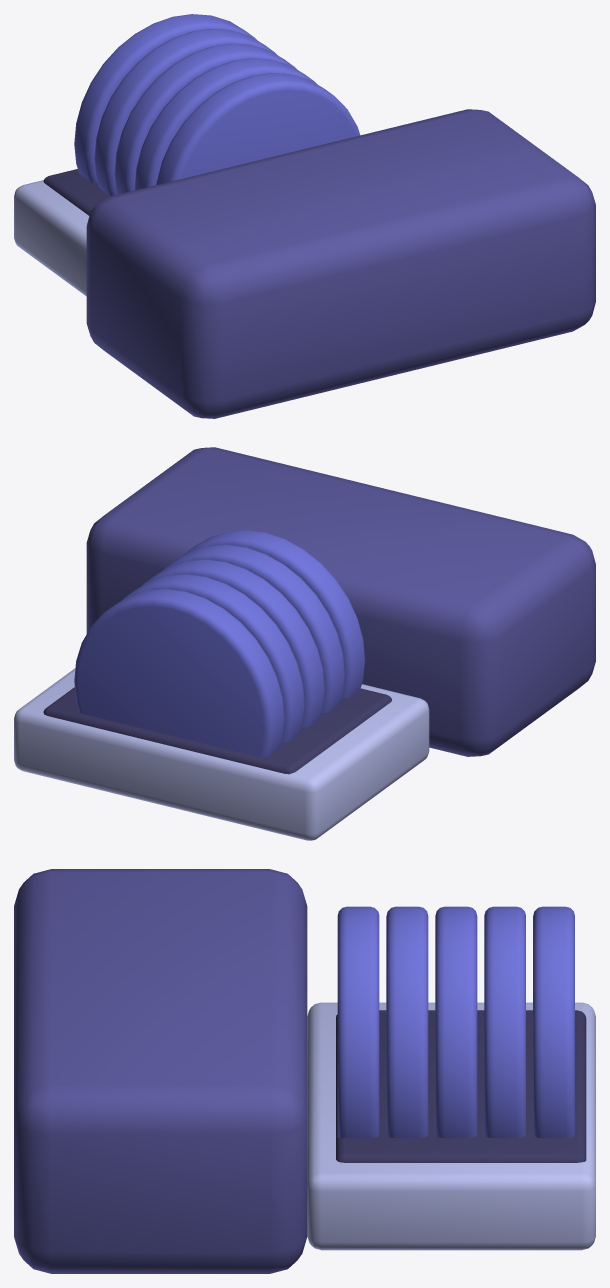
Rendered from Conveyor_Spawner.glb.
The picture shows the model from 3 angles, top to bottom: view 1: azimuth 30°, elevation 25°; view 2: azimuth 150°, elevation 25°; view 3: azimuth 270°, elevation 25°; orthographic projection. The views are drawn at different scales.
Parts seen in each view (by area): view 1: Spawner_Housing, Spawner_Disc_5, Spawner_Tray, Spawner_Disc_1, Spawner_Disc_2, Spawner_Disc_3, Spawner_Disc_4, Spawner_TrayInner; view 2: Spawner_Housing, Spawner_Tray, Spawner_Disc_1, Spawner_TrayInner, Spawner_Disc_2, Spawner_Disc_4, Spawner_Disc_3, Spawner_Disc_5; view 3: Spawner_Housing, Spawner_Tray, Spawner_TrayInner, Spawner_Disc_5, Spawner_Disc_4, Spawner_Disc_3, Spawner_Disc_2, Spawner_Disc_1.
Boxes of the visible parts, box(x1,y1,x2,y2) form: Spawner_Housing: box(86, 109, 595, 418); Spawner_Disc_5: box(156, 73, 359, 184); Spawner_Tray: box(14, 180, 89, 296); Spawner_Disc_1: box(74, 14, 257, 182); Spawner_Disc_2: box(94, 28, 276, 195); Spawner_Disc_3: box(114, 43, 297, 194); Spawner_Disc_4: box(134, 58, 316, 190); Spawner_TrayInner: box(43, 169, 110, 215); Spawner_Housing: box(86, 447, 595, 756); Spawner_Tray: box(14, 668, 429, 840); Spawner_Disc_1: box(74, 589, 284, 757); Spawner_TrayInner: box(43, 687, 391, 774); Spawner_Disc_2: box(122, 574, 304, 742); Spawner_Disc_4: box(162, 544, 344, 713); Spawner_Disc_3: box(142, 559, 324, 727); Spawner_Disc_5: box(183, 530, 365, 698); Spawner_Housing: box(14, 869, 307, 1273); Spawner_Tray: box(307, 1002, 595, 1250); Spawner_TrayInner: box(336, 1010, 586, 1162); Spawner_Disc_5: box(337, 906, 379, 1138); Spawner_Disc_4: box(386, 906, 428, 1138); Spawner_Disc_3: box(435, 906, 477, 1138); Spawner_Disc_2: box(484, 906, 525, 1138); Spawner_Disc_1: box(533, 906, 574, 1138).
Bounding box in the file's own units: 1.24 × 0.6 × 1.25.
